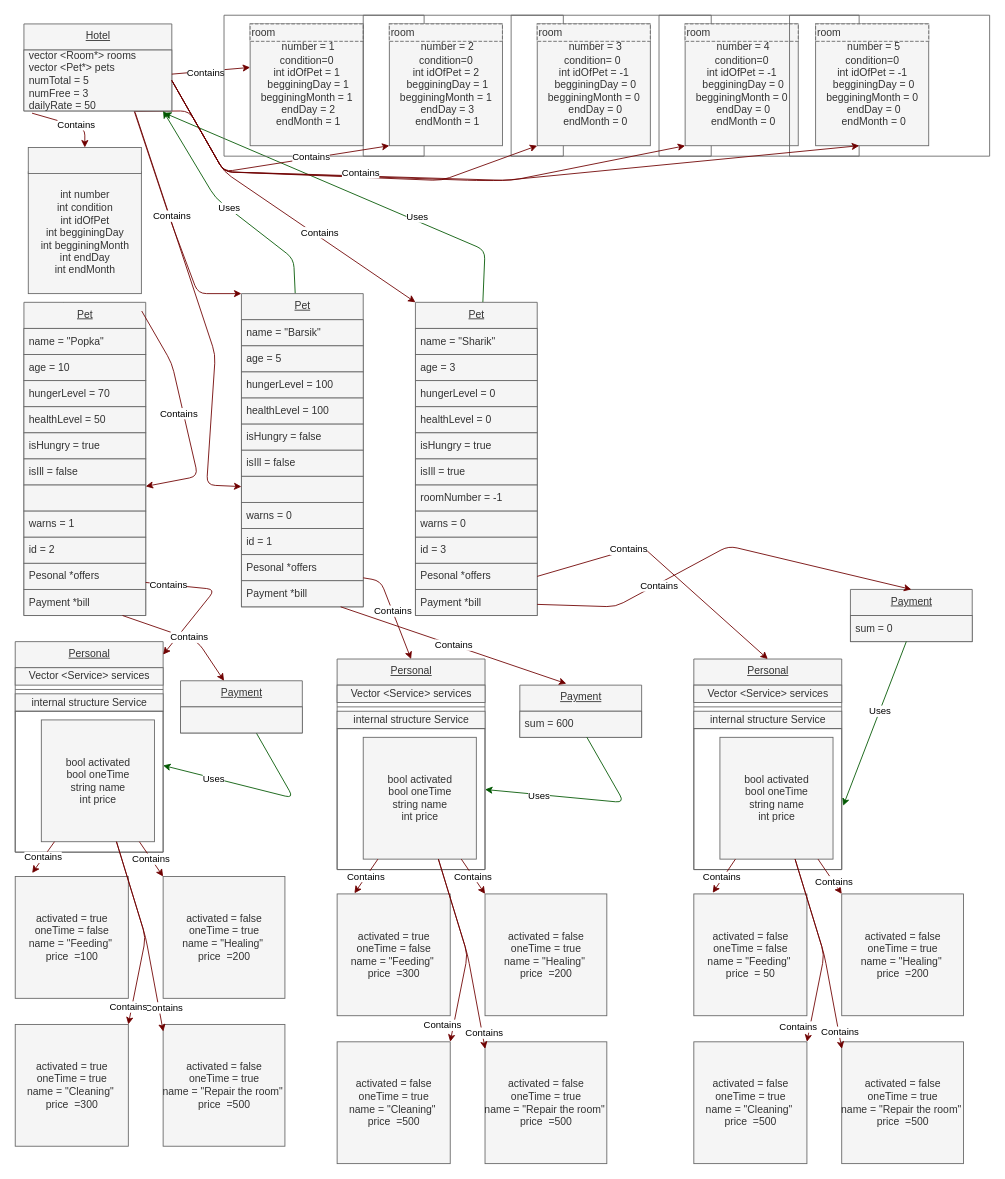
Some shapes in this 1005 by 1179 pixel diagram are drawn without their labels. The shapes that lost their labels are listed below. From the top down, each one's centre as x and y in pixels, then its label:
At point 84,160: "Struct Room".
At point 84,497: "roomNumber = 2".
At point 302,488: "roomNumber = 1".
At point 241,719: "sum = 550".
